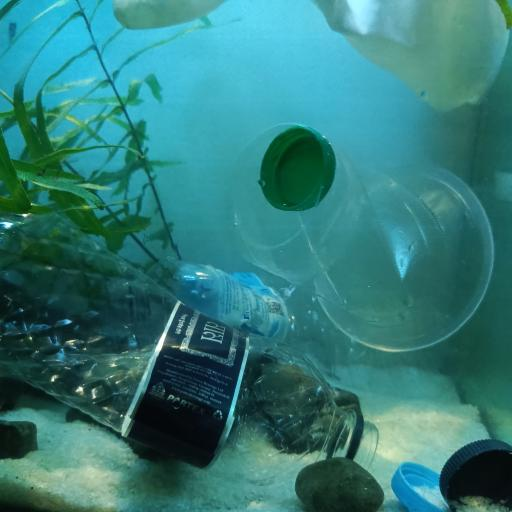bottle_cap: (259, 125, 335, 212), (442, 440, 512, 512), (394, 462, 444, 510)
glove: (112, 0, 508, 114)
plastic_bottle: (2, 208, 378, 484), (146, 251, 378, 362)
plastic_cup: (225, 121, 495, 354)
